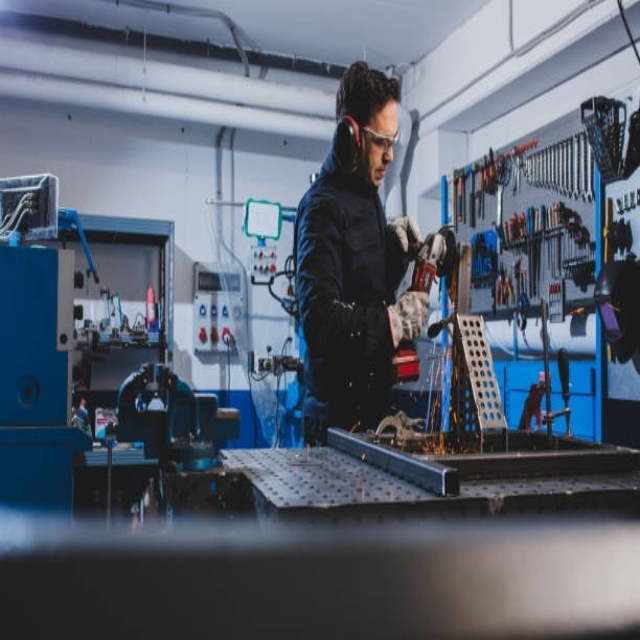Gafas: (361, 125, 399, 149)
Guantes: (387, 289, 430, 347), (386, 210, 425, 251)
Sin_mascara: (370, 160, 391, 190)
